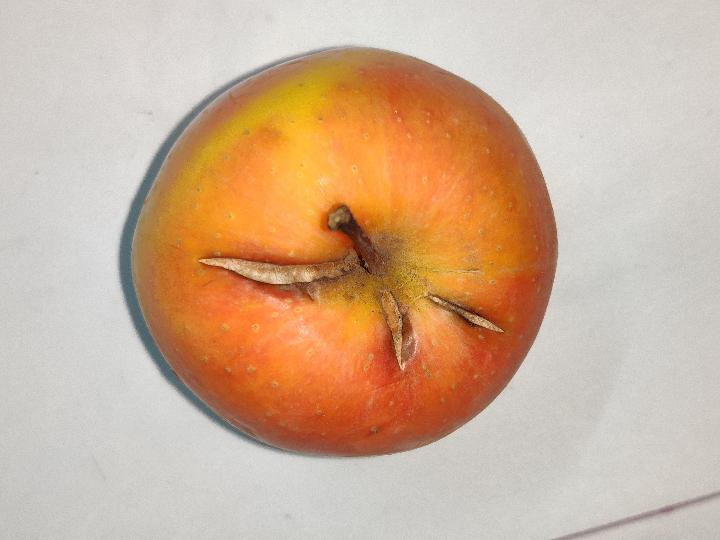apple: (132, 48, 557, 455)
surface_damage: (199, 252, 359, 285), (428, 295, 504, 332), (382, 291, 403, 368)
